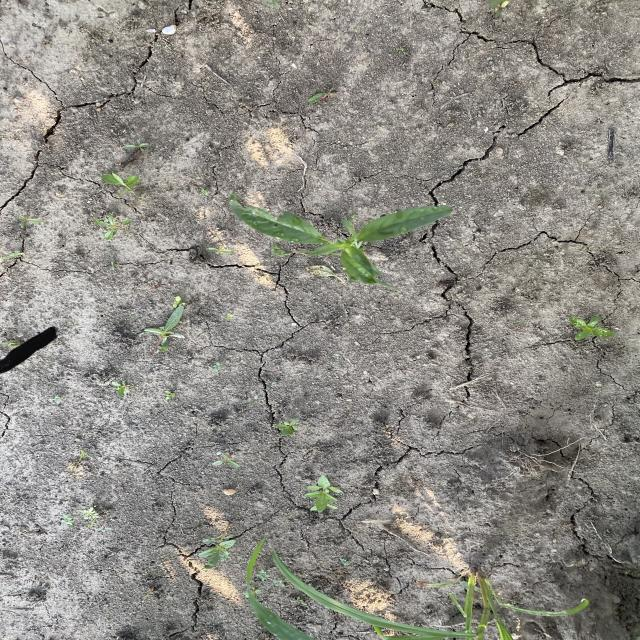Waterhemp: (222, 190, 456, 287), (137, 304, 188, 353), (200, 524, 237, 570)
